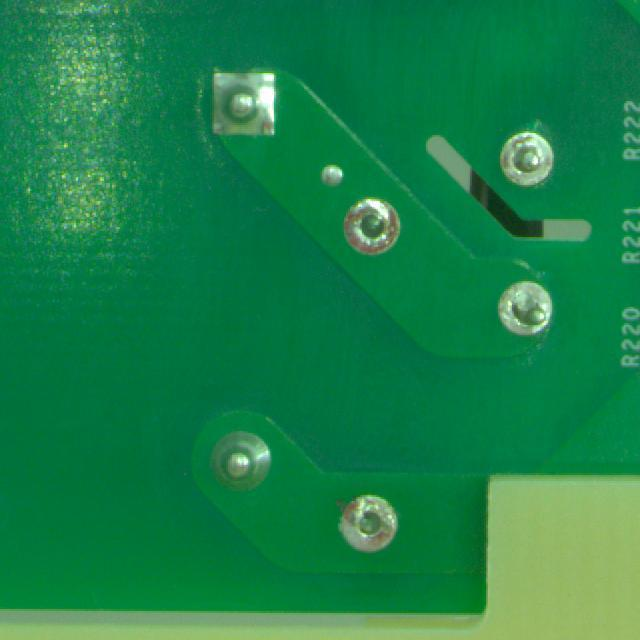Insufficient solder: (473, 256, 569, 346), (479, 112, 570, 201), (332, 474, 423, 556), (332, 186, 410, 259)
